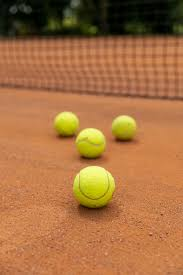tennis_ball: (72, 165, 115, 209), (76, 128, 106, 158), (112, 115, 137, 141), (55, 112, 78, 137)
